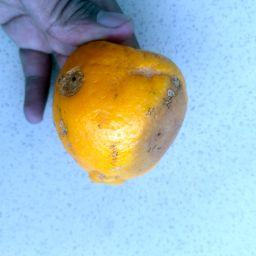orange: (52, 39, 190, 186)
